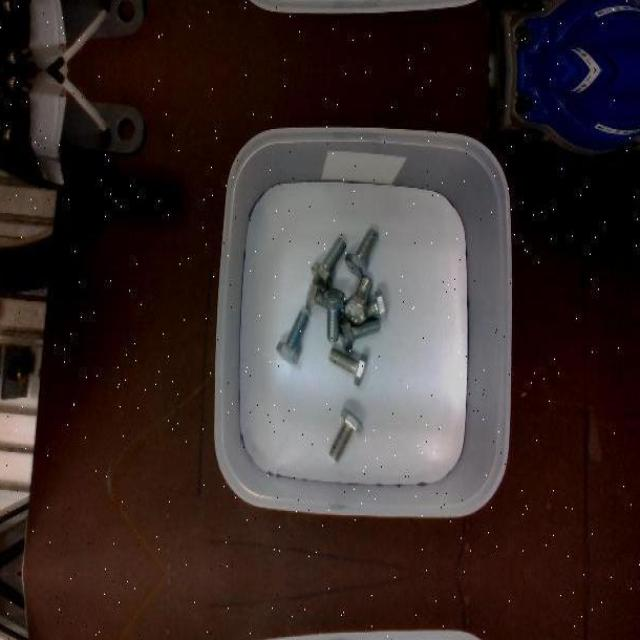screw: (329, 407, 363, 460), (275, 310, 308, 364), (311, 237, 345, 288), (345, 227, 380, 276), (328, 347, 368, 387), (344, 276, 372, 324), (323, 289, 344, 343)
